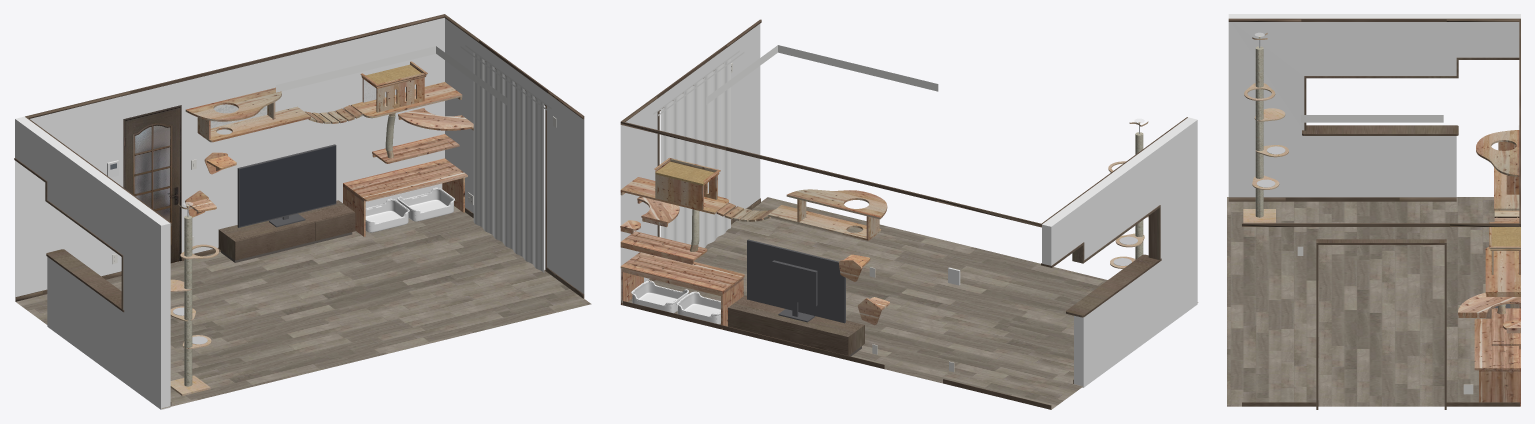
3 renders of one model, left to right at view 1: azimuth 30°, elevation 25°; view 2: azimuth 150°, elevation 25°; view 3: azimuth 270°, elevation 25°, orthographic.
Parts seen in each view (by area): view 1: 部屋, カーテン_レース; view 2: 部屋, カーテン_レース; view 3: 部屋.
Part boxes in pixels (left/top/right/bottom): 部屋: left=14, top=14, right=591, bottom=409; カーテン_レース: left=473, top=53, right=544, bottom=273; 部屋: left=620, top=19, right=1198, bottom=409; カーテン_レース: left=660, top=58, right=730, bottom=247; 部屋: left=1227, top=14, right=1520, bottom=409.
Size of the model in its own units: 6.01 by 2.52 by 3.5.
Materials: 30 (14 with a texture image).
